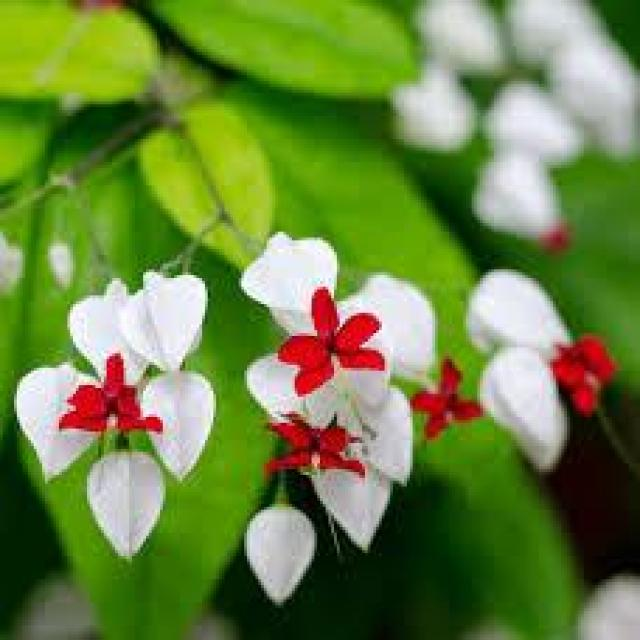organic waste: (241, 217, 427, 562), (28, 278, 199, 550)
